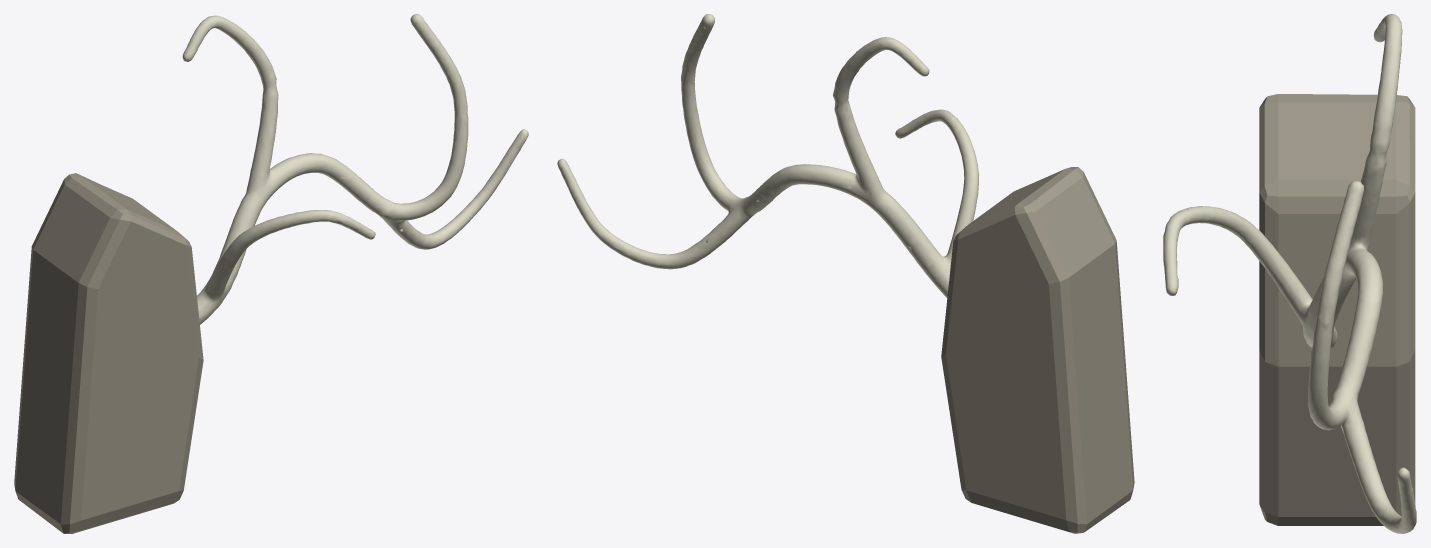
Rendered from helictite.glb.
3 renders of one model, left to right at view 1: azimuth 30°, elevation 25°; view 2: azimuth 150°, elevation 25°; view 3: azimuth 270°, elevation 25°, orthographic. The views are drawn at different scales.
Parts seen in each view (by area): view 1: declared-original-limestone-attachment-fragment, one-continuous-contorted-mineral-tube-cluster; view 2: declared-original-limestone-attachment-fragment, one-continuous-contorted-mineral-tube-cluster; view 3: declared-original-limestone-attachment-fragment, one-continuous-contorted-mineral-tube-cluster.
Part boxes in pixels (bbox=[...]): declared-original-limestone-attachment-fragment: bbox=[14, 173, 203, 533]; one-continuous-contorted-mineral-tube-cluster: bbox=[182, 14, 528, 324]; declared-original-limestone-attachment-fragment: bbox=[941, 167, 1134, 533]; one-continuous-contorted-mineral-tube-cluster: bbox=[557, 14, 978, 298]; declared-original-limestone-attachment-fragment: bbox=[1259, 94, 1415, 525]; one-continuous-contorted-mineral-tube-cluster: bbox=[1163, 14, 1416, 533].
Bounding box in the file's own units: 0.2364 × 0.1929 × 0.0774.
